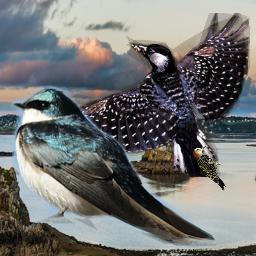Swallow: (11, 86, 216, 246)
Woodpecker: (26, 13, 250, 177), (192, 146, 226, 191)
